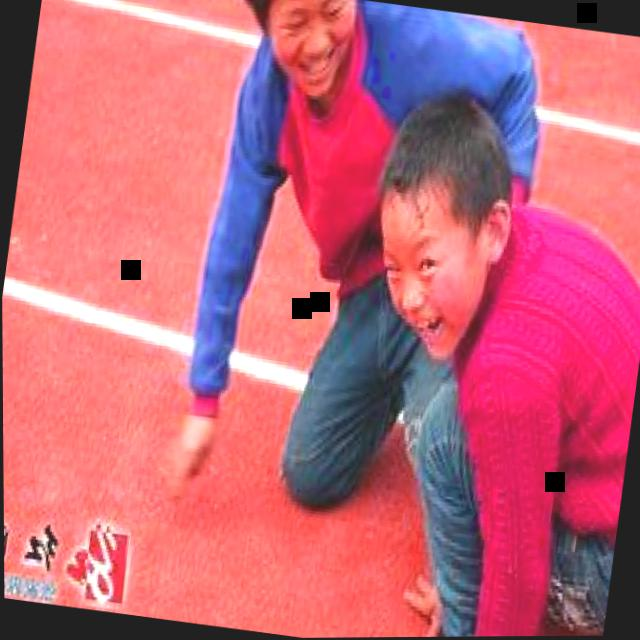Fall-Detected: (125, 0, 575, 545)
